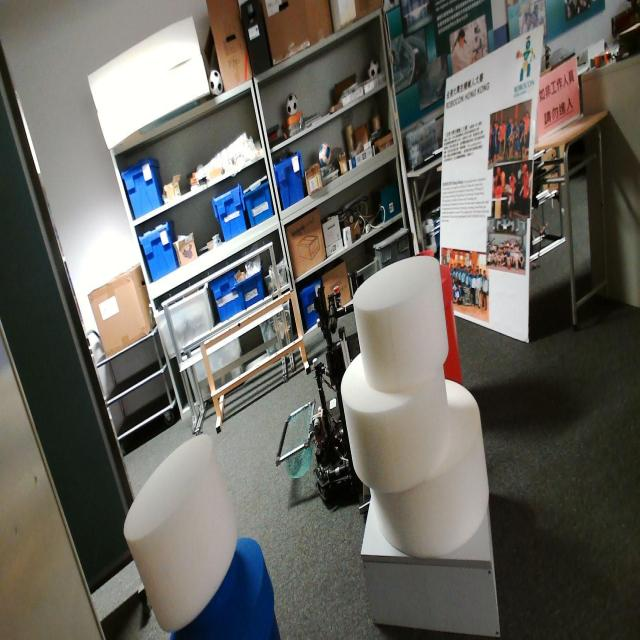Soccer Ball: (316, 142, 334, 162), (286, 94, 298, 114), (210, 76, 221, 91), (369, 64, 379, 73)
